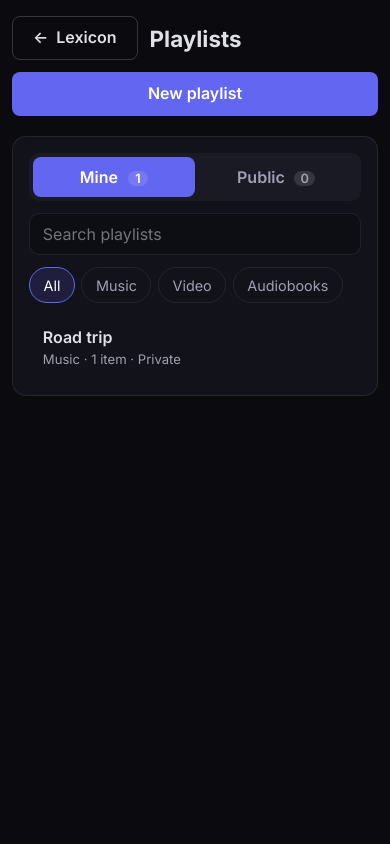
the add window stays open after adding one item, and shows it as in the playlist
The image size is (390, 844).
Click the button "Road trip Music · 1 item · Private". click: [78, 337]
box: [29,315,361,379]
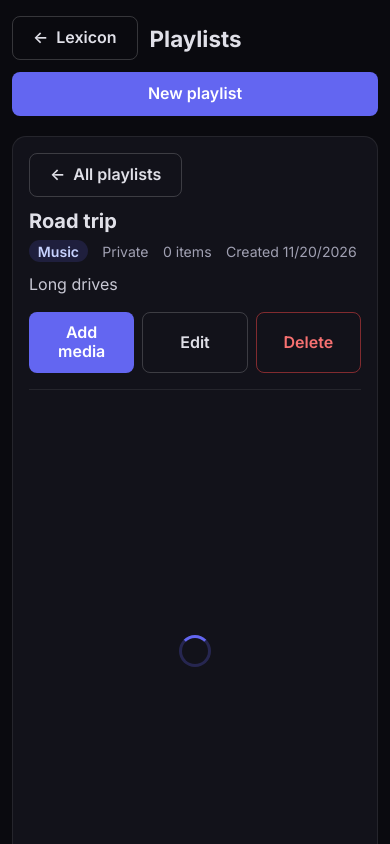
Click the button "Add media". click: [82, 342]
box: [29,312,134,373]
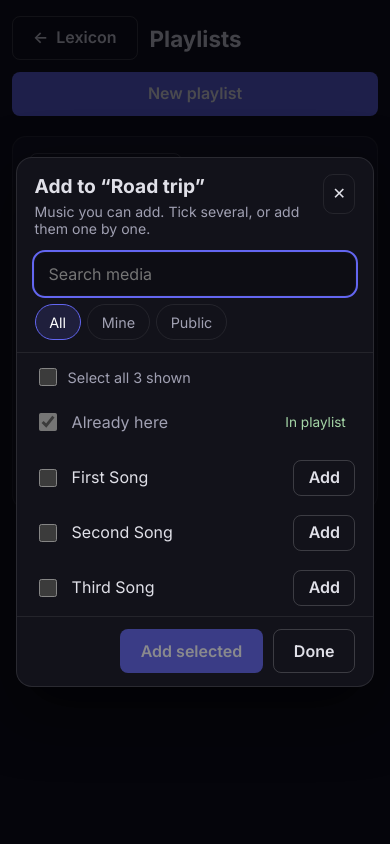
Click the button with aria-label "Add Second Song". click: [324, 533]
box: [293,515,356,551]
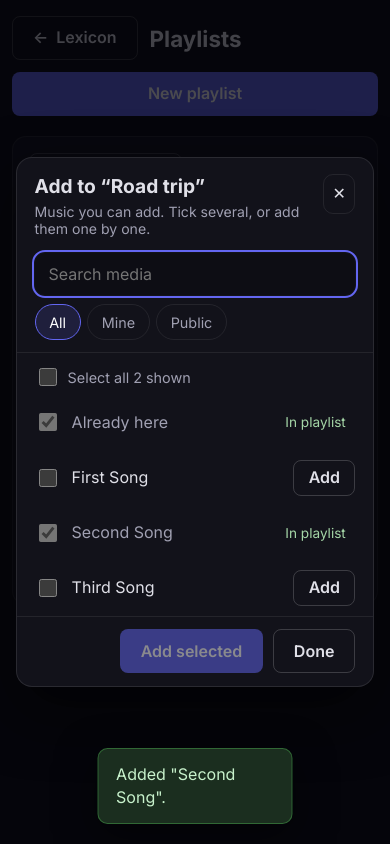
Expected: the text "In playlist" is shown 2 times, [285,414,346,430]; [285,525,346,541]
